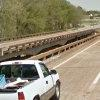Car: (2, 51, 65, 100)
